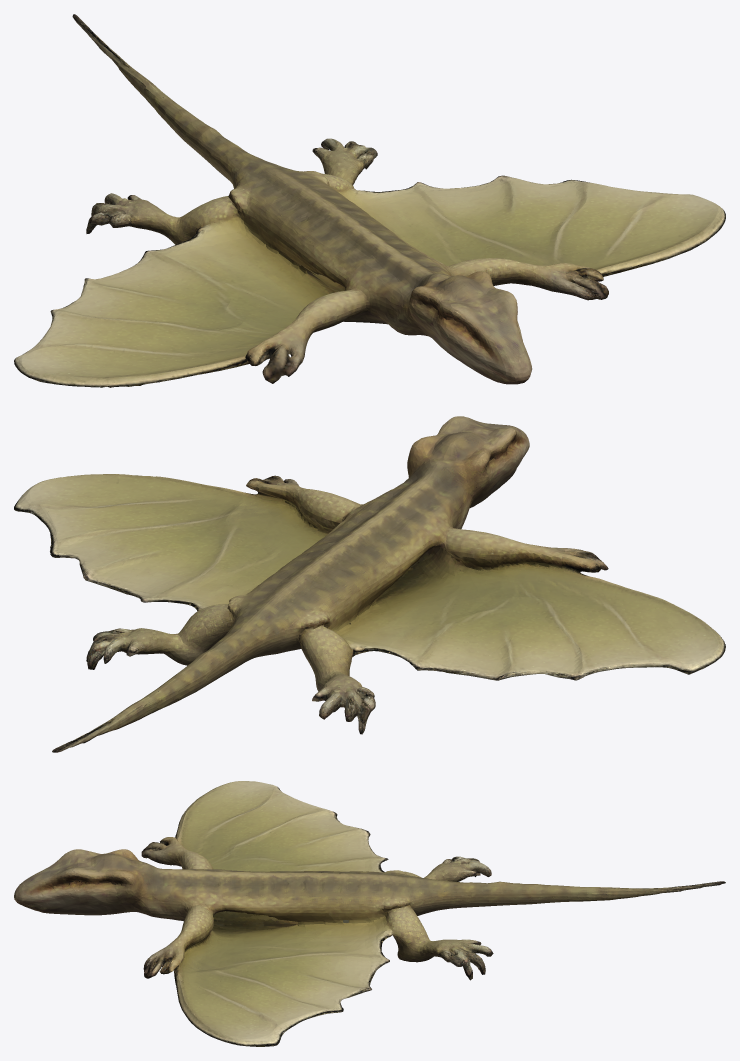
The picture shows the model from 3 angles, top to bottom: view 1: azimuth 30°, elevation 25°; view 2: azimuth 150°, elevation 25°; view 3: azimuth 270°, elevation 25°; orthographic projection. The views are drawn at different scales.
Visible parts, largest first — view 1: world; view 2: world; view 3: world.
Boxes of the visible parts, x1,y1,x2,y2 form: world: (14, 14, 725, 387); world: (14, 416, 725, 752); world: (14, 781, 725, 1046).
Bounding box in the file's own units: 0.2788 × 0.0394 × 0.32.
Materials: 1 (1 with a texture image).
